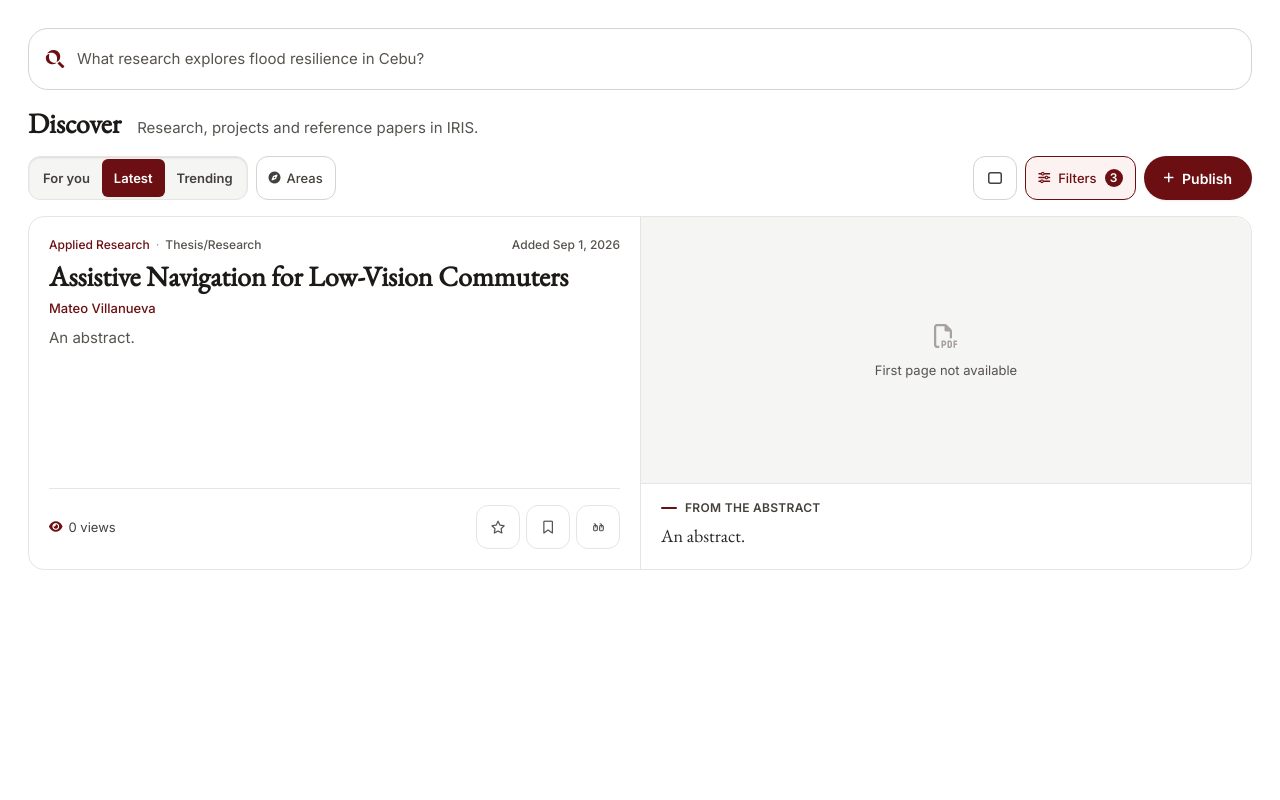
Test: browsing › keeps filters across feeds, applies them to recommendations, and hides recommendation sorting
Check: the link "Assistive Navigation for Low-Vision Commuters" is shown, box [49,259,568,294]
Click the button "For you" at (66, 178), box [31,159,102,197]
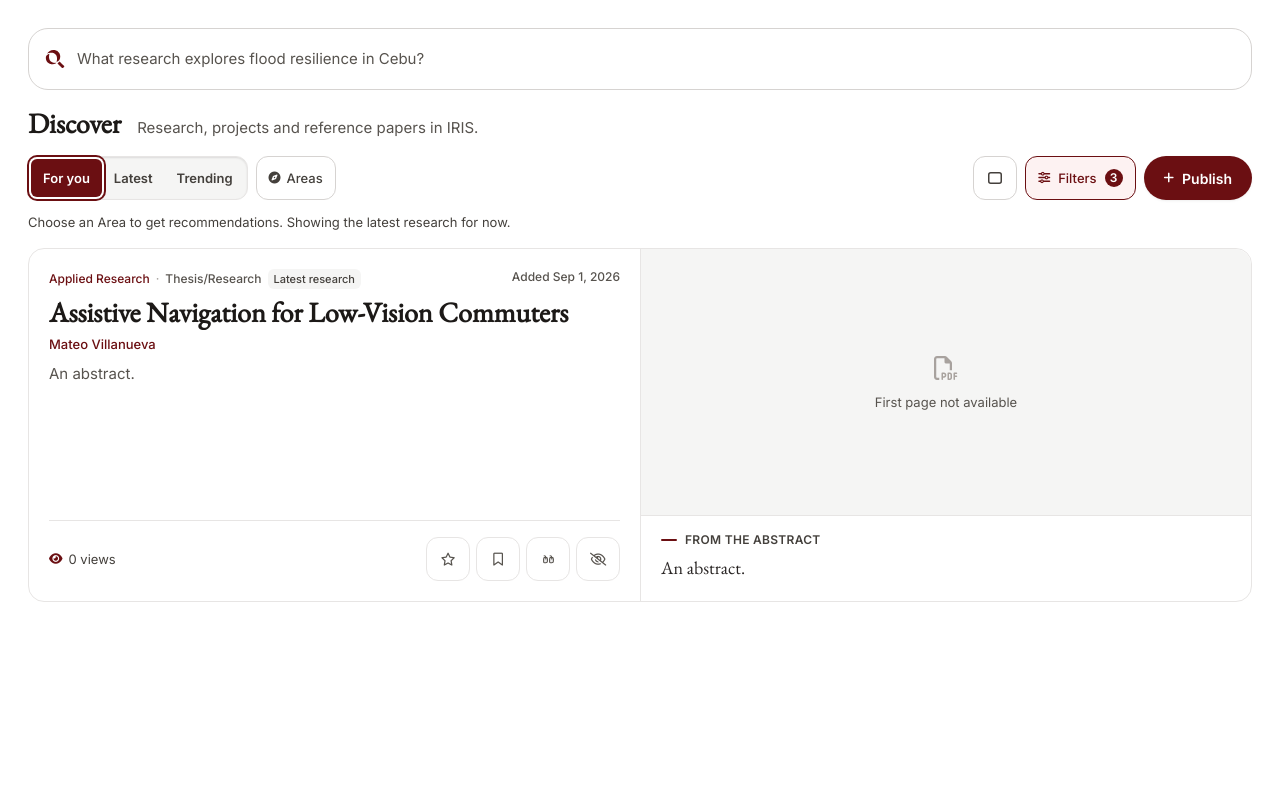
Click the button "Filters 3" at (1080, 178), box [1025,156,1136,200]
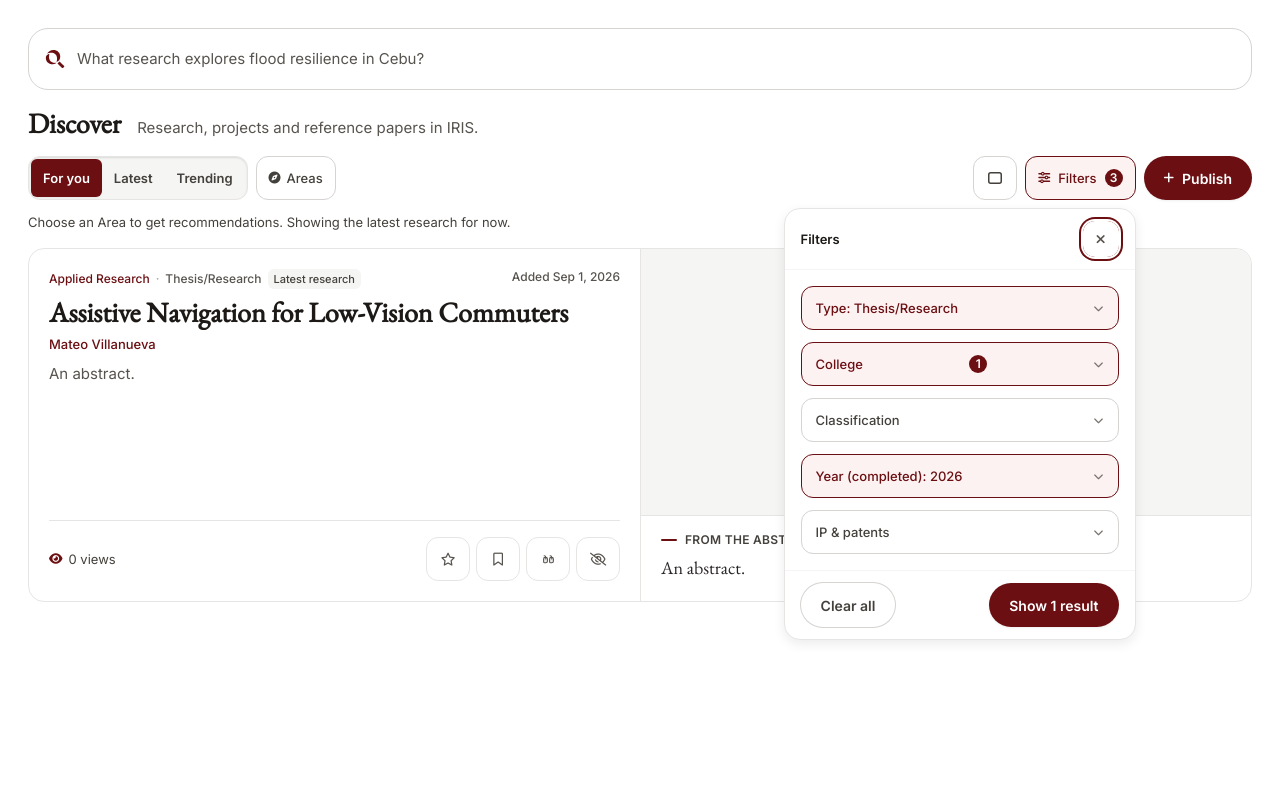
Check: the button "Sort:" is not shown
Click the button "Year (completed): 2026" at (960, 476), box [801,454,1119,498]
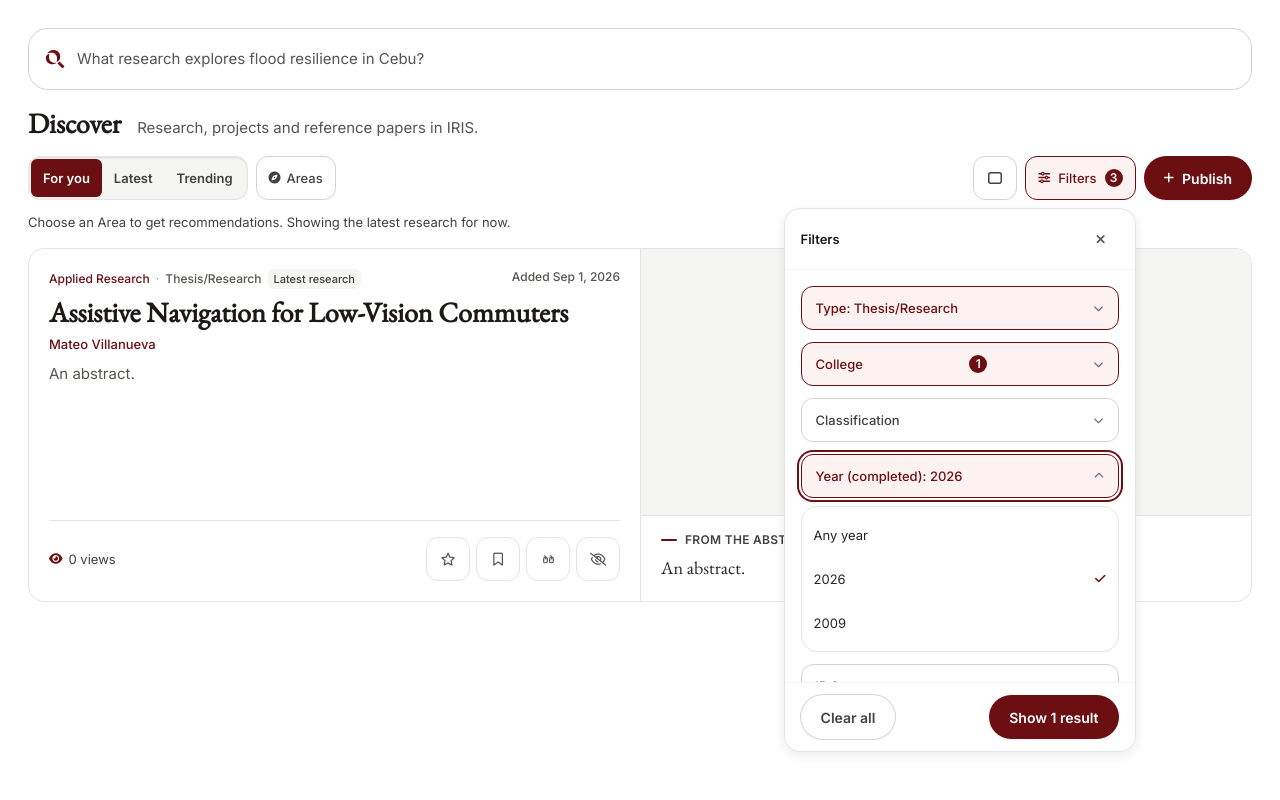
Click the option "2009" at (830, 623), box [802,601,1118,645]
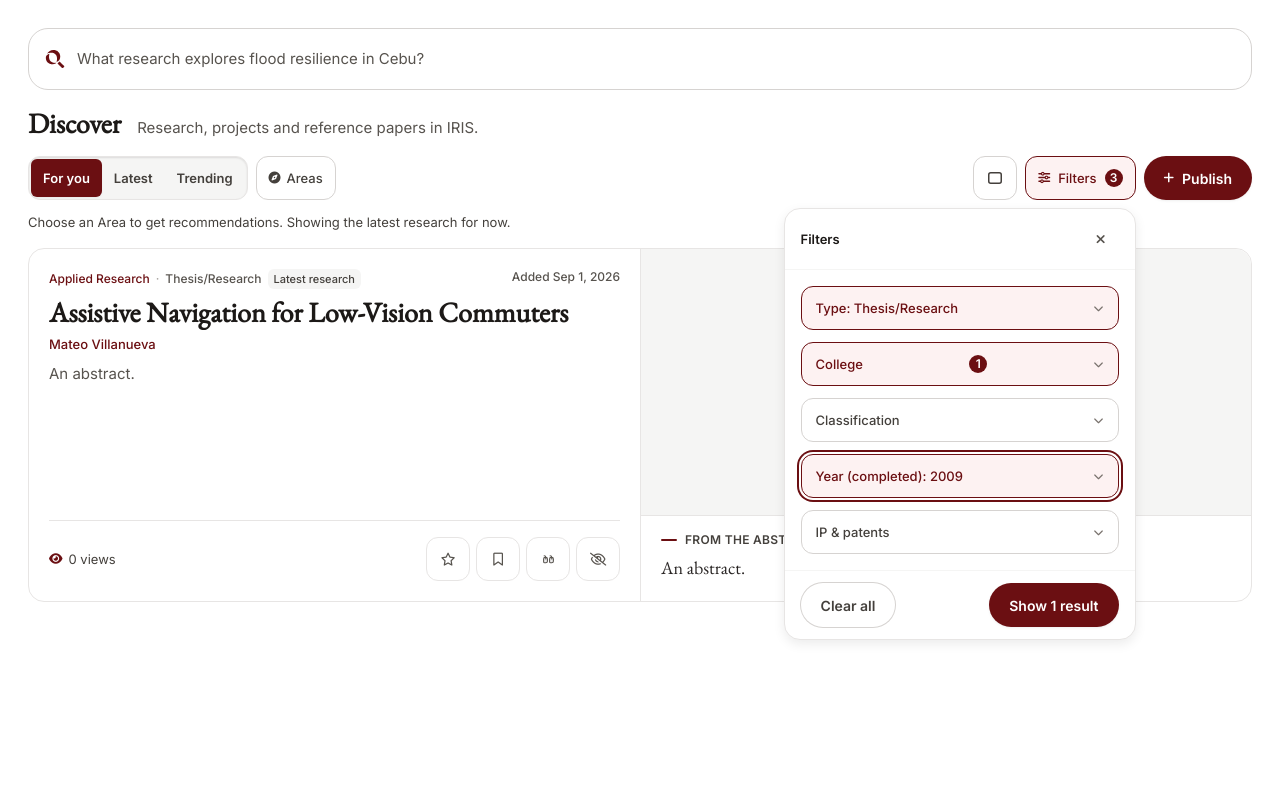
Check: the button "For you" is pressed, box [31,159,102,197]
Click the button "Latest" at (133, 178), box [102,159,165,197]
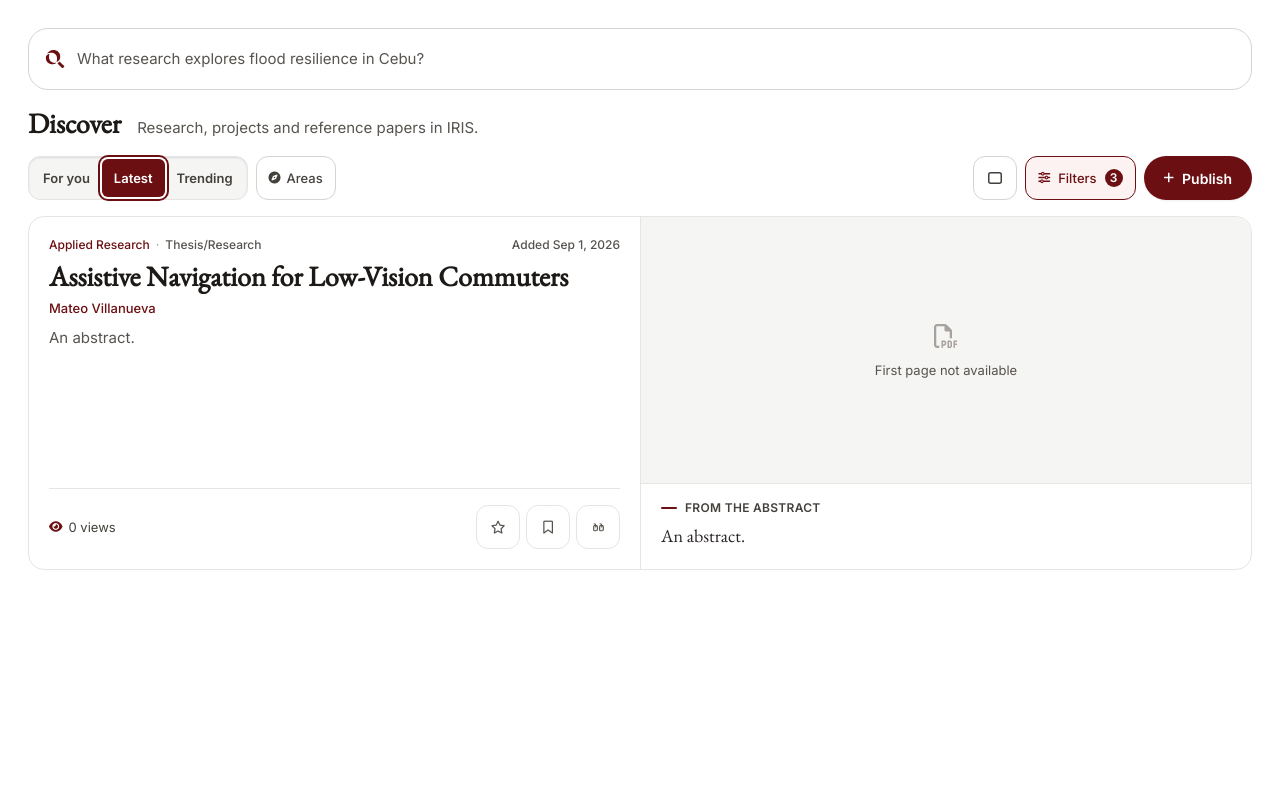
Click the button "Filters 3" at (1080, 178), box [1025,156,1136,200]
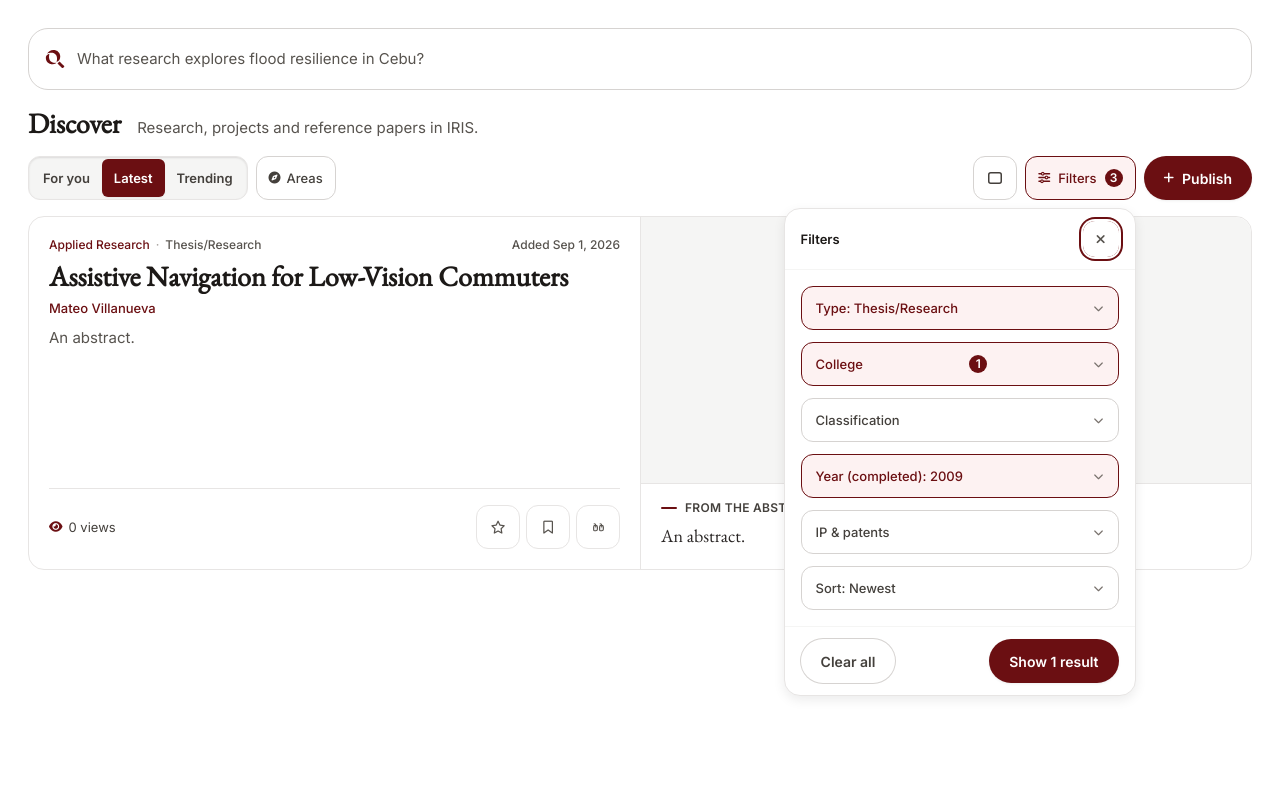
Check: the button "Sort: Newest" is shown, box [801,566,1119,610]
